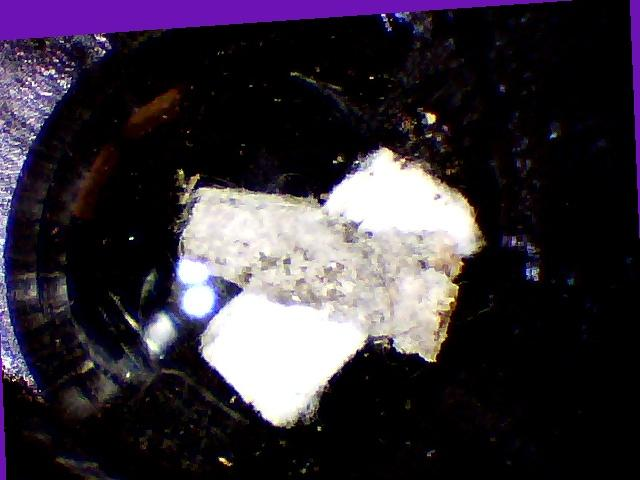megot: (164, 134, 490, 383), (178, 130, 342, 442)
